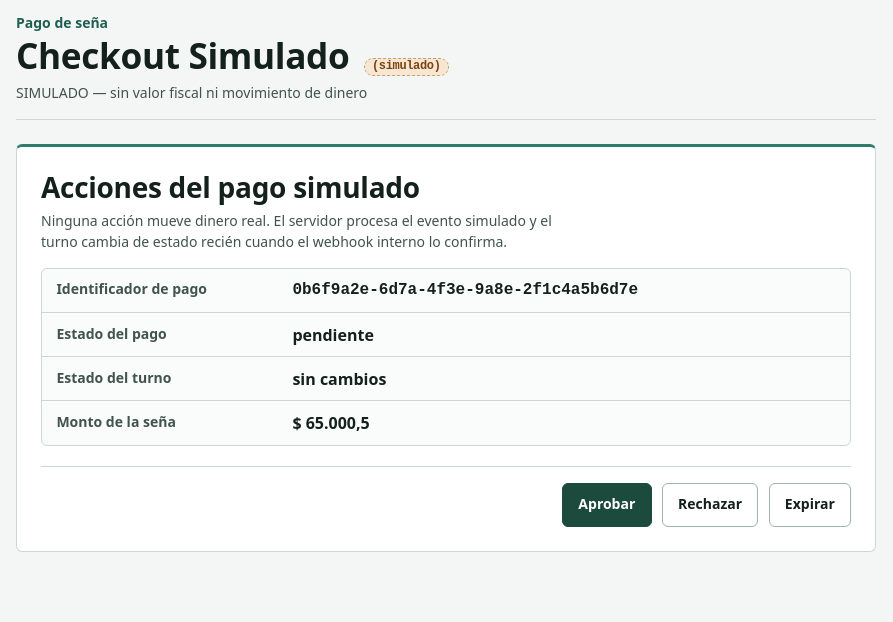
Scenario: CheckoutSimuladoPage › aprueba en el servidor y refleja pago aprobado, seña y turno confirmado
The width and height of the screenshot is (893, 622).
Expected: the heading "Checkout Simulado (simulado)" is shown, [16, 31, 449, 79]
Expected: the text "(simulado)" is shown, [364, 58, 449, 76]
Click the button "Aprobar" at (607,504), box [562, 482, 652, 526]
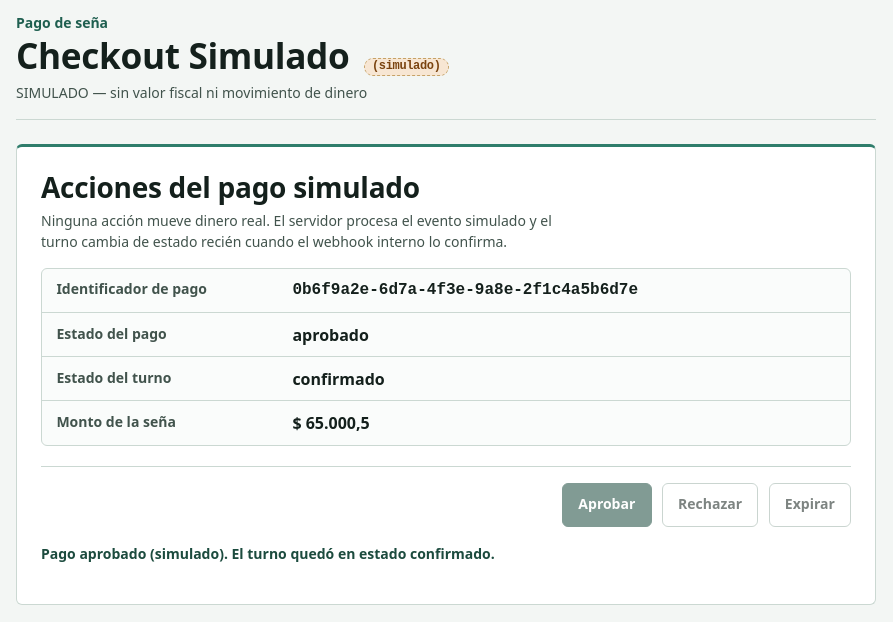
Now the text "aprobado" is shown, box [292, 324, 369, 346]
Now the text "confirmado" is shown, box [292, 368, 385, 390]
Now the button "Aprobar" is disabled, box [562, 482, 652, 526]
